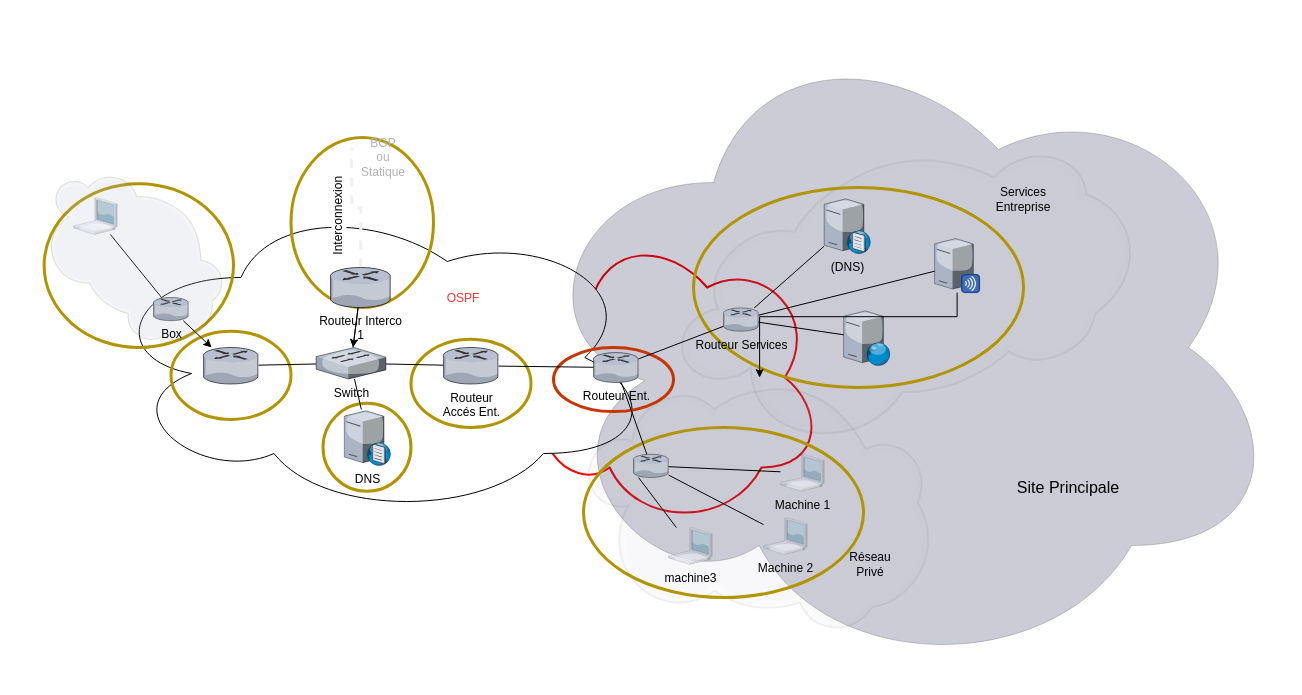
Some shapes in this 1302 by 695 pixel diagram are drawn without their labels. The centre of each missing label's shape, as x and y in pixels:
Client: (x=95, y=215)
Routeur Accés: (x=230, y=365)
Routeur réseau privé: (x=650, y=465)
SIP: (x=956, y=265)
Web: (x=866, y=337)
